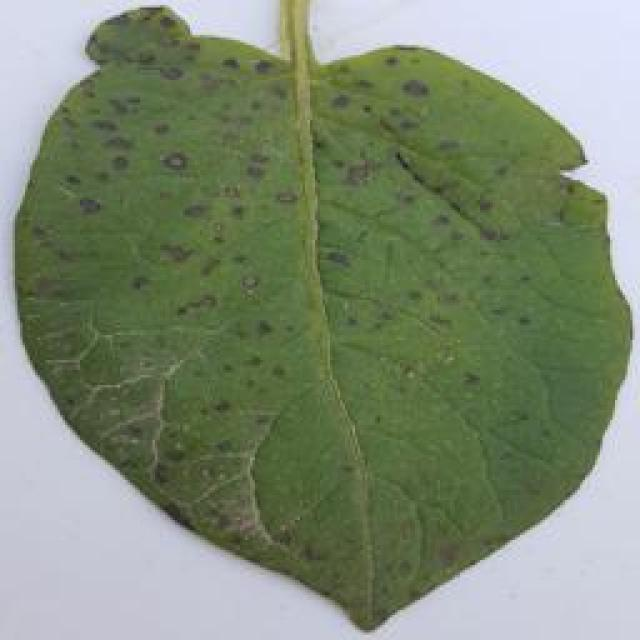Potato_Early_Blight: (10, 6, 640, 638)
